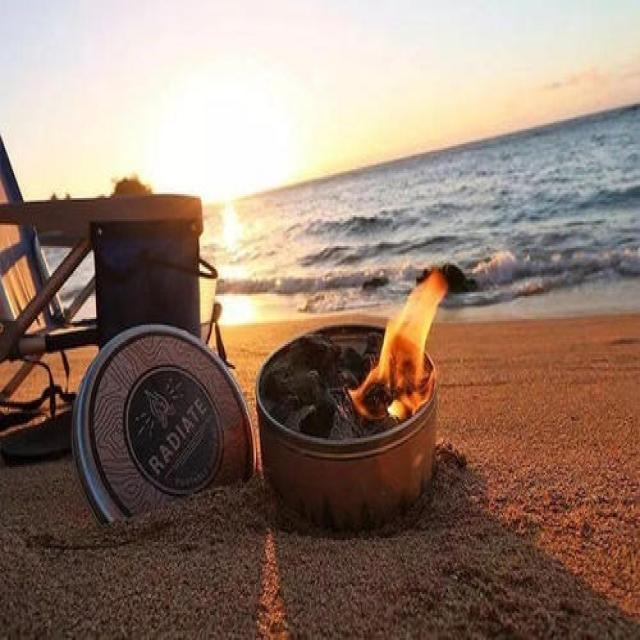Fire: (346, 267, 449, 423)
